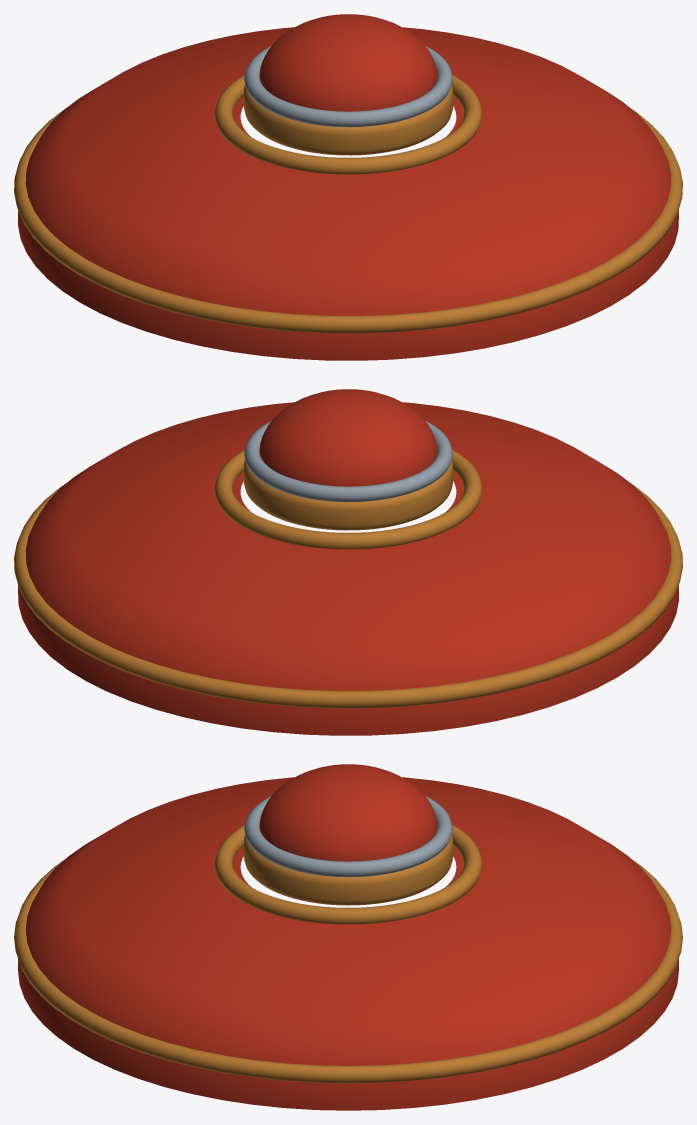
The model's file is bumper-cap.dae.
The picture shows the model from 3 angles, top to bottom: view 1: azimuth 30°, elevation 25°; view 2: azimuth 150°, elevation 25°; view 3: azimuth 270°, elevation 25°; orthographic projection.
Visible parts, largest first — view 1: Enamel crown • atlas surface, Outer machined lip, Raised jewel • authored atlas centre, Inner concentric fillet, Jewel bezel, Jewel seat; view 2: Enamel crown • atlas surface, Outer machined lip, Raised jewel • authored atlas centre, Inner concentric fillet, Jewel bezel, Jewel seat; view 3: Enamel crown • atlas surface, Outer machined lip, Raised jewel • authored atlas centre, Inner concentric fillet, Jewel bezel, Jewel seat.
Part boxes in pixels (x1,y1,x2,y2): Enamel crown • atlas surface: (18, 27, 678, 360); Outer machined lip: (14, 108, 682, 333); Raised jewel • authored atlas centre: (259, 14, 437, 111); Inner concentric fillet: (214, 75, 482, 174); Jewel bezel: (244, 84, 452, 155); Jewel seat: (244, 46, 452, 127); Enamel crown • atlas surface: (18, 402, 678, 735); Outer machined lip: (14, 483, 682, 708); Raised jewel • authored atlas centre: (259, 389, 437, 486); Inner concentric fillet: (214, 450, 482, 549); Jewel bezel: (244, 459, 452, 530); Jewel seat: (244, 421, 452, 502); Enamel crown • atlas surface: (18, 777, 678, 1110); Outer machined lip: (14, 859, 682, 1083); Raised jewel • authored atlas centre: (259, 764, 437, 861); Inner concentric fillet: (214, 825, 482, 924); Jewel bezel: (244, 835, 452, 905); Jewel seat: (244, 796, 452, 877).
Bounding box in the file's own units: 1.98 × 0.6373 × 1.98.
